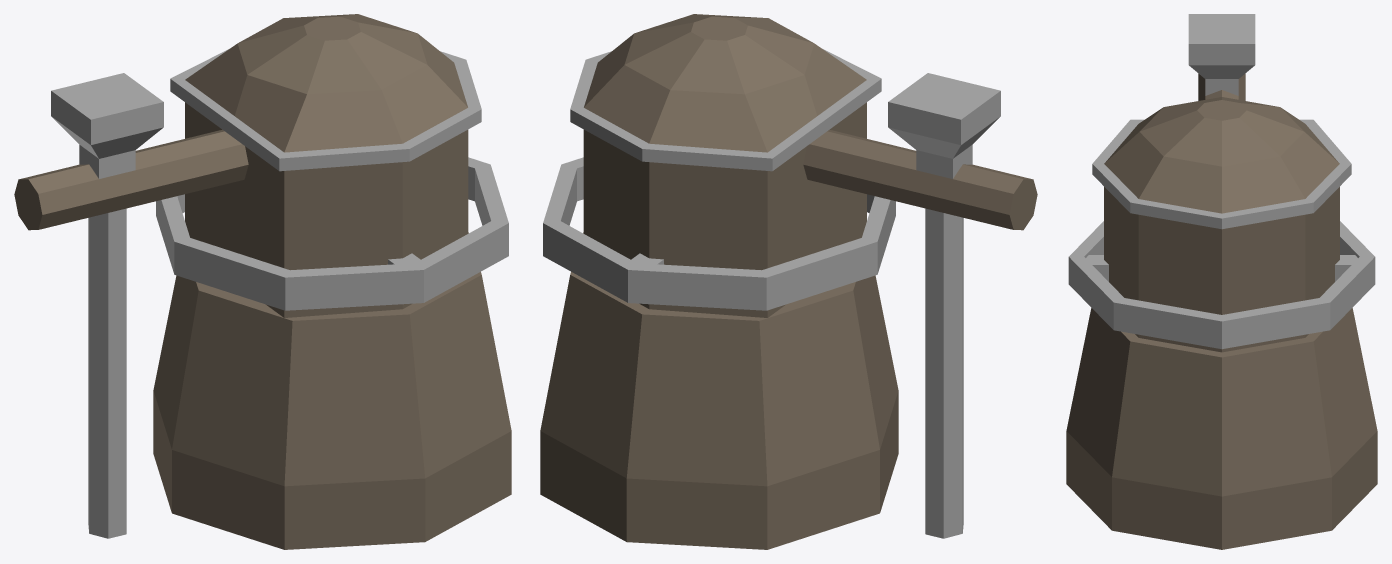
File: steampunk_machine_1.fbx
The picture shows the model from 3 angles, left to right: view 1: azimuth 30°, elevation 25°; view 2: azimuth 150°, elevation 25°; view 3: azimuth 270°, elevation 25°; orthographic projection. The views are drawn at different scales.
Visible parts, largest first — view 1: Cylinder.014; view 2: Cylinder.014; view 3: Cylinder.014.
Boxes of the visible parts, x1,y1,x2,y2 form: Cylinder.014: [14, 14, 511, 549]; Cylinder.014: [540, 14, 1037, 549]; Cylinder.014: [1066, 14, 1377, 549].
Bounding box in the file's own units: 3.82 × 3.5 × 2.64.
